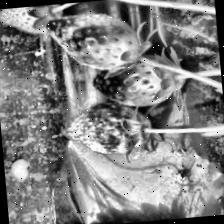Powdery Mildew Fruit: (45, 8, 145, 75), (58, 98, 155, 159)
